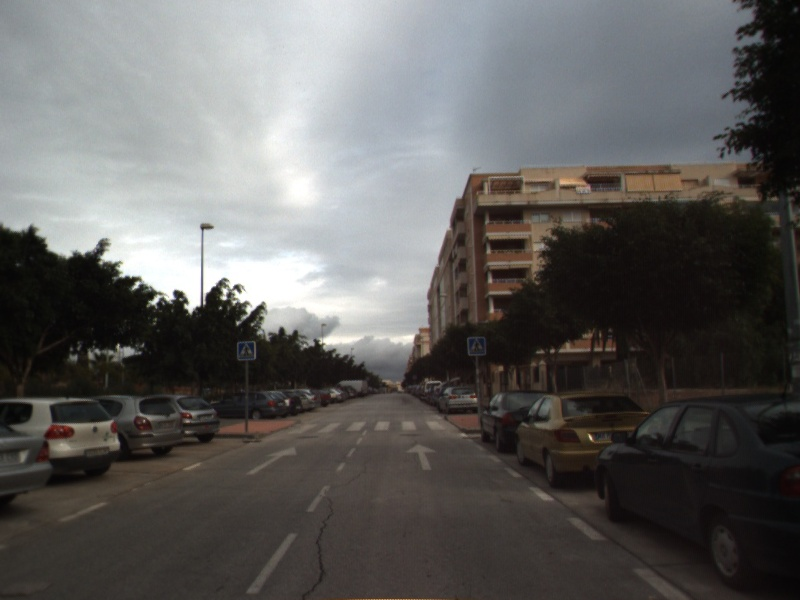STRAIGHT: (244, 445, 298, 476), (404, 442, 439, 472)
